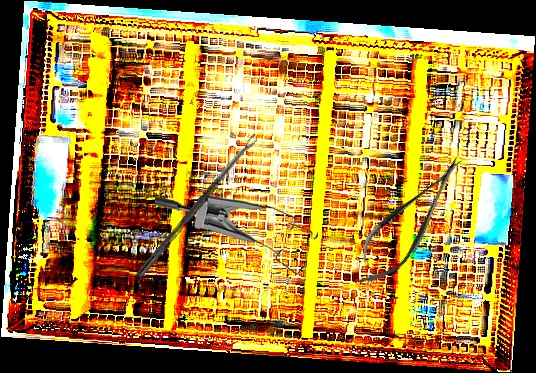Micro Scissor: (339, 144, 481, 299)
Speculum: (155, 192, 319, 278)
Surgical Spoon: (133, 134, 260, 282)
